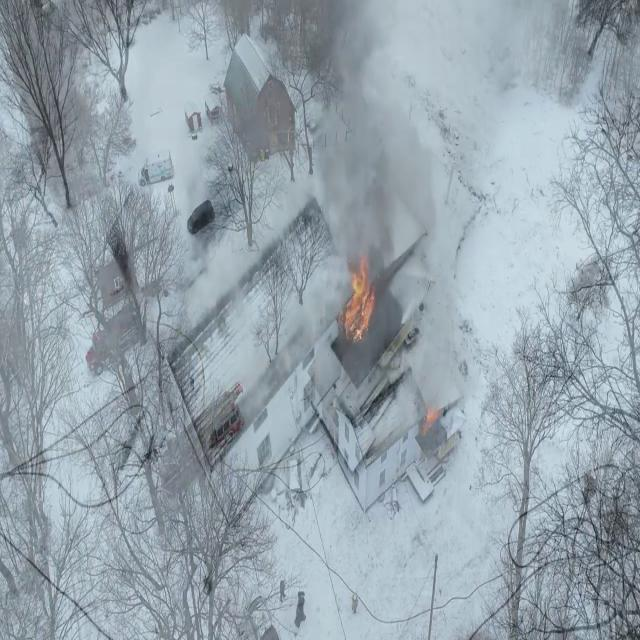Fire: (338, 252, 378, 344)
Smoke: (304, 0, 514, 263)
